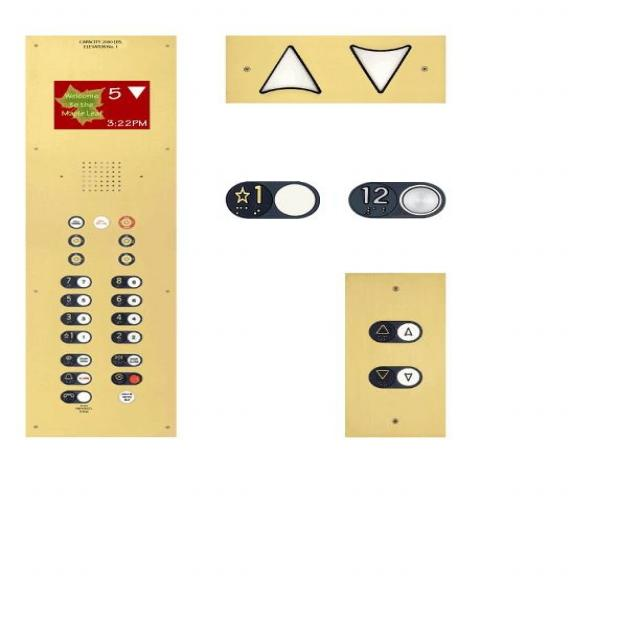12: (343, 177, 447, 219)
2: (108, 328, 141, 343)
3: (57, 309, 91, 325)
4: (108, 310, 141, 325)
5: (57, 291, 91, 306)
6: (108, 292, 141, 306)
7: (58, 273, 92, 289)
8: (108, 273, 141, 288)
alarm: (57, 368, 91, 384)
call: (57, 388, 91, 403)
close: (108, 351, 141, 366)
down: (365, 364, 422, 388)
keyhole: (116, 215, 135, 229), (67, 251, 84, 265), (117, 251, 134, 265), (66, 233, 84, 246), (116, 233, 134, 246)
open: (57, 351, 91, 366)
s1: (221, 178, 325, 220), (57, 327, 91, 343)
stop: (108, 369, 141, 385)
text_blur: (114, 388, 135, 403), (66, 214, 84, 228)
unknown: (92, 215, 109, 228)
up: (365, 318, 421, 342)
